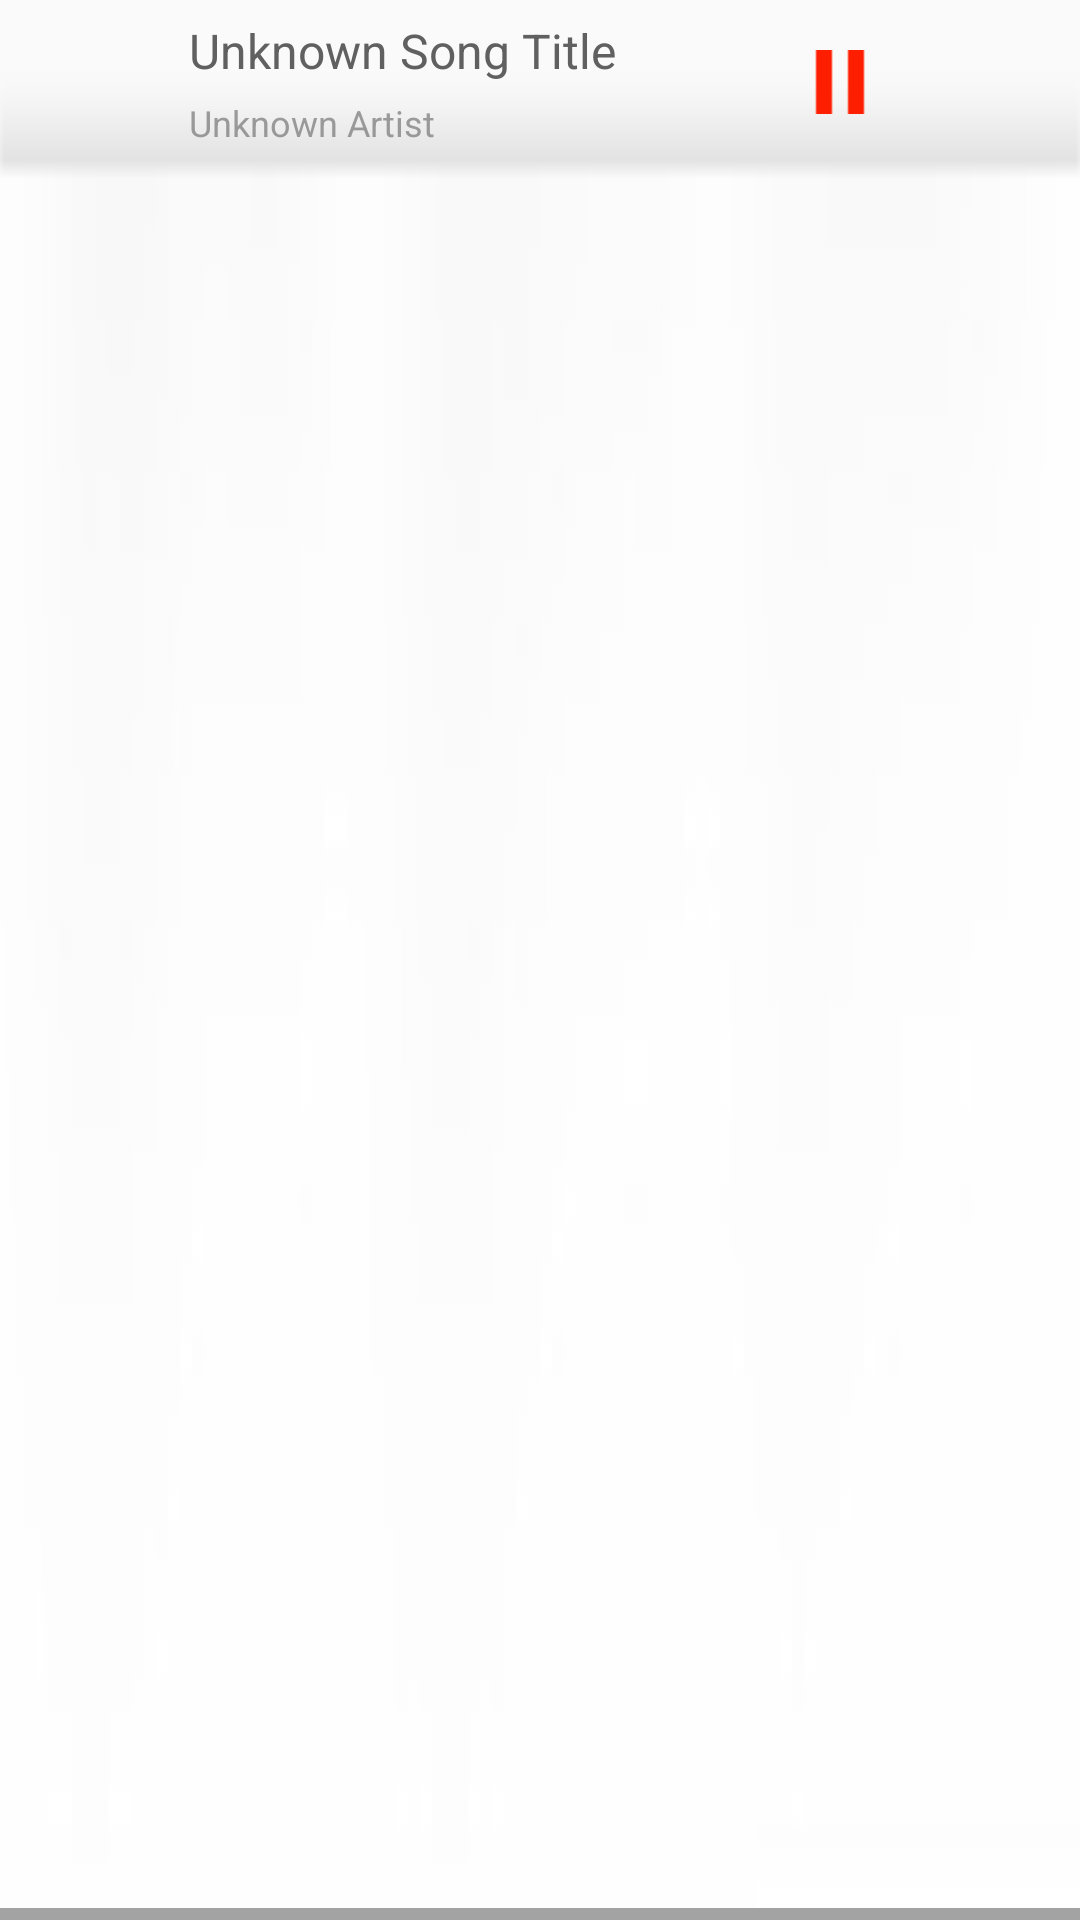

Icons on this 1080×1920 Android screen, each with the point to tap as (x=x, y=y):
pause: (x=840, y=82)
